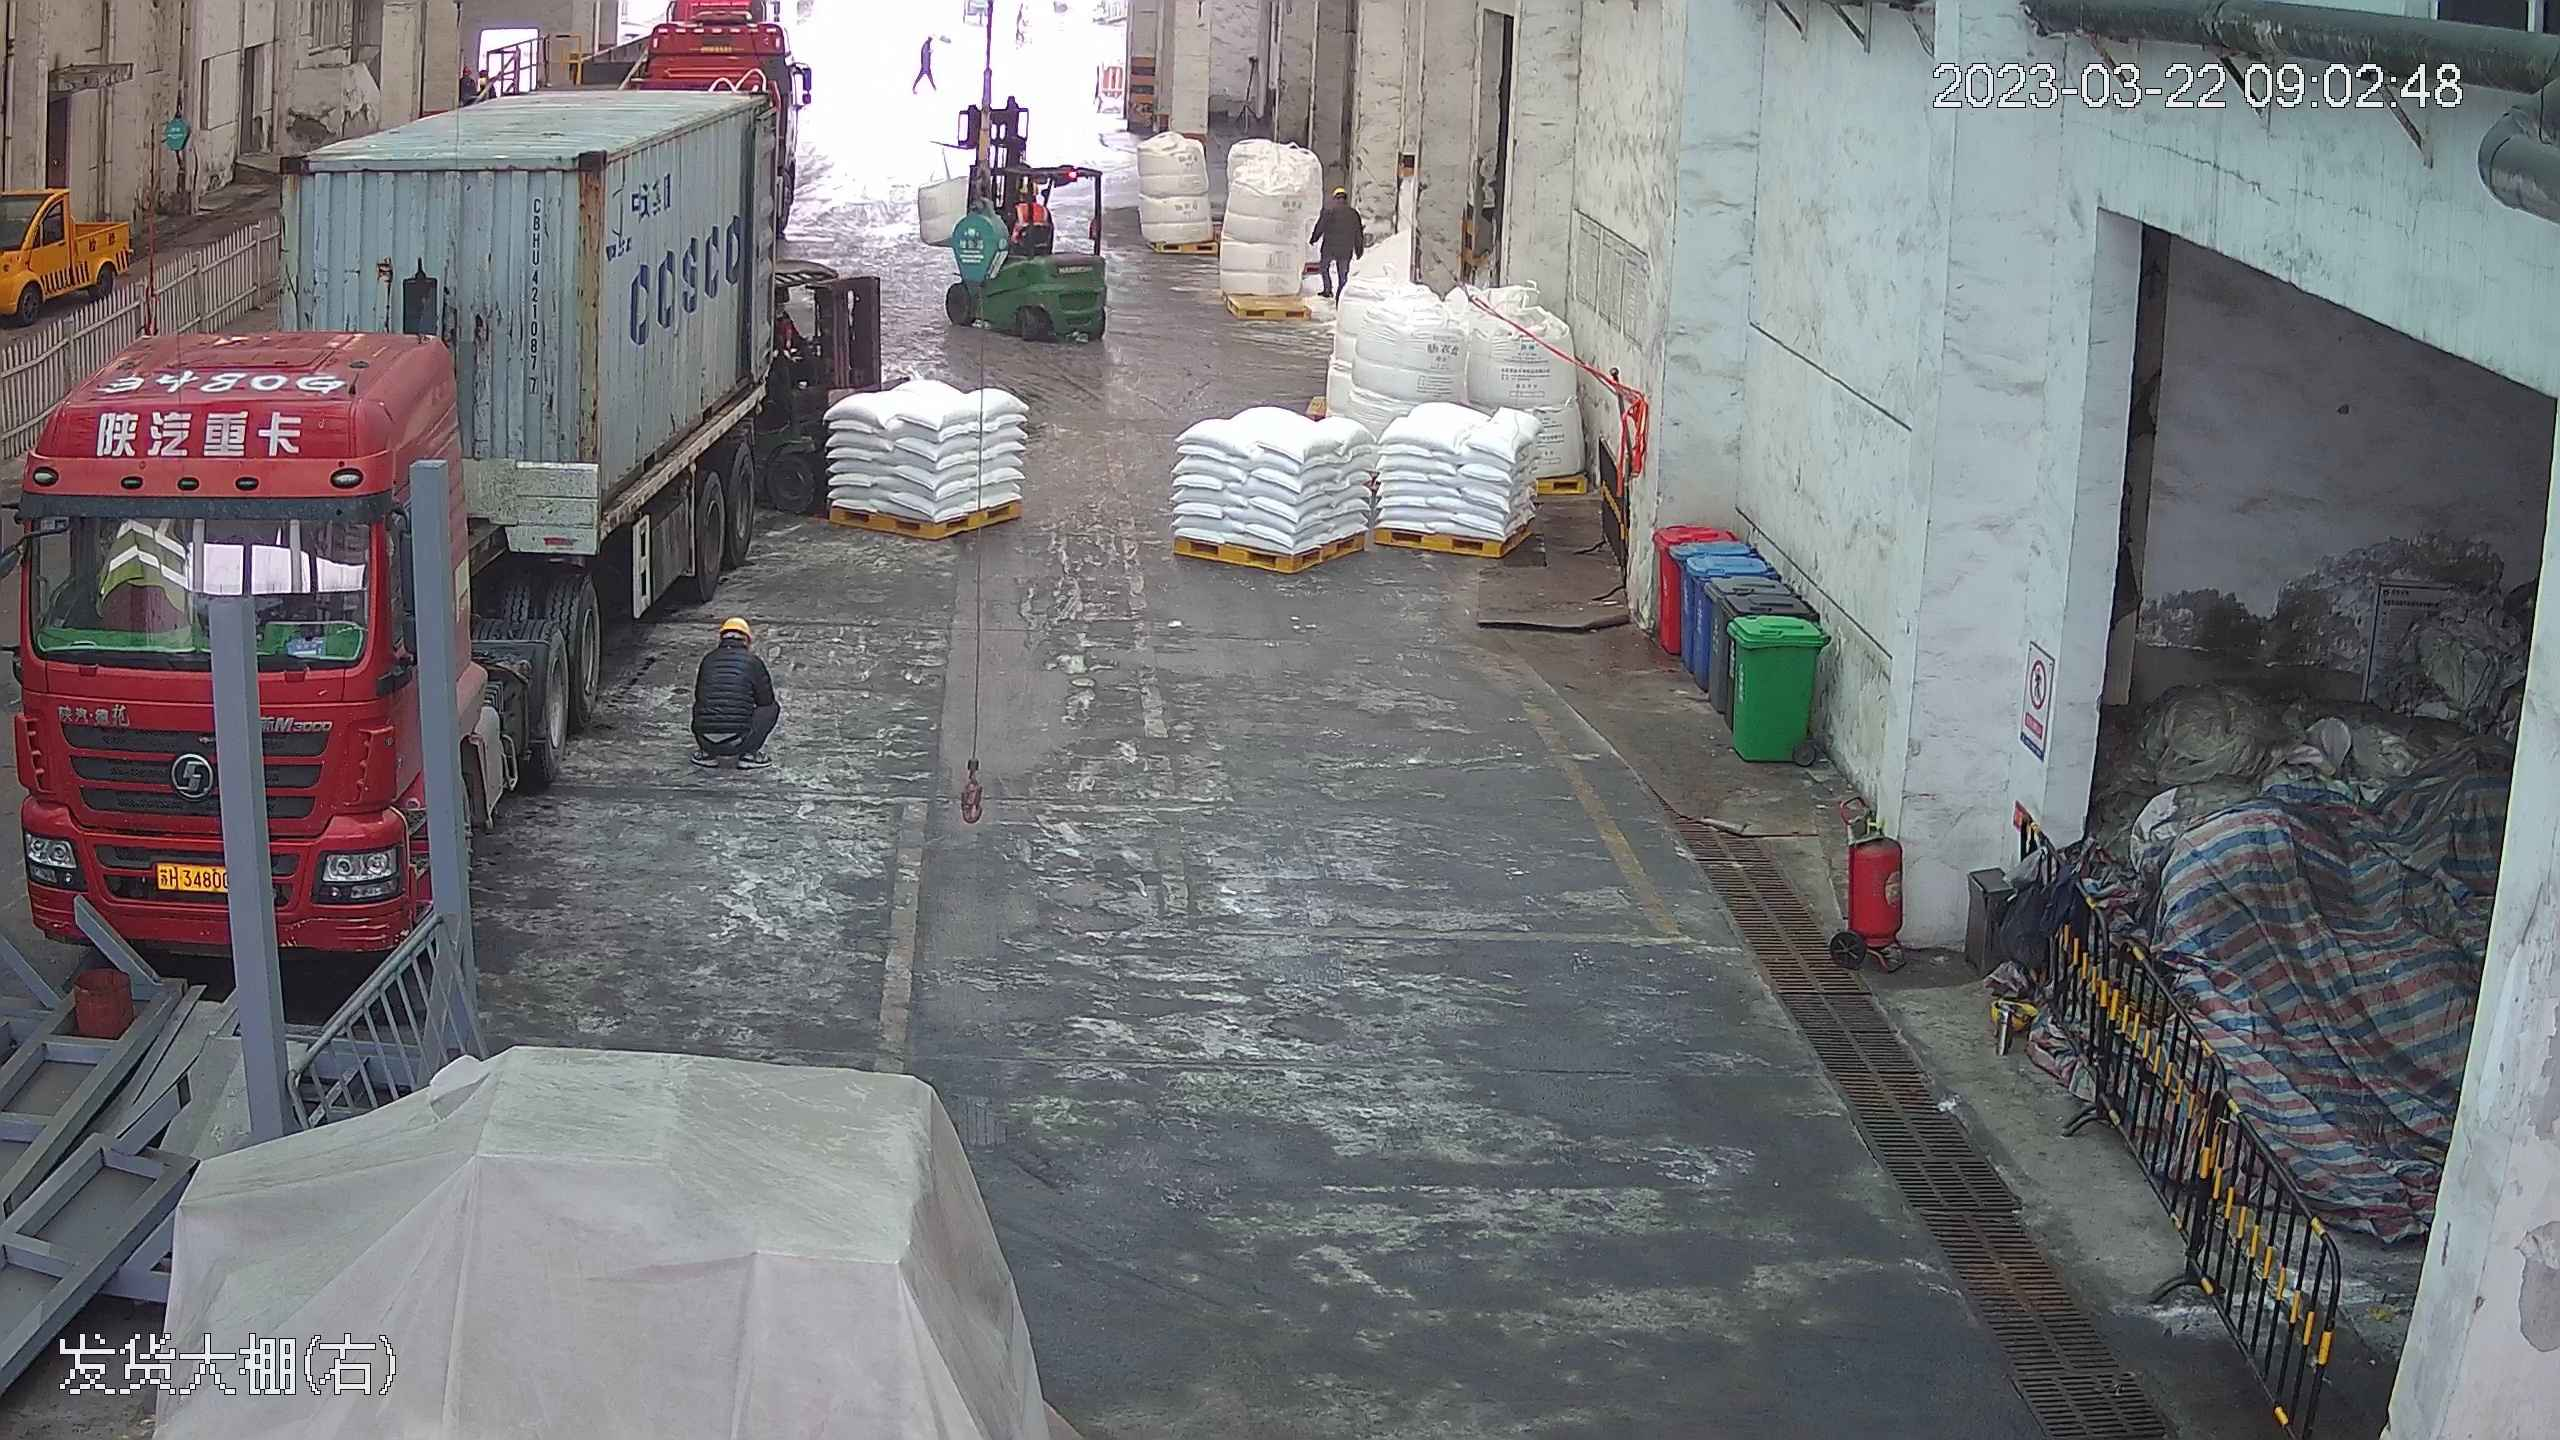head: (696, 614, 768, 686), (1318, 178, 1361, 224)
helmet: (713, 613, 752, 642), (1328, 179, 1349, 196)
people: (688, 610, 784, 774), (1310, 170, 1365, 304)
truck: (26, 25, 789, 966)
